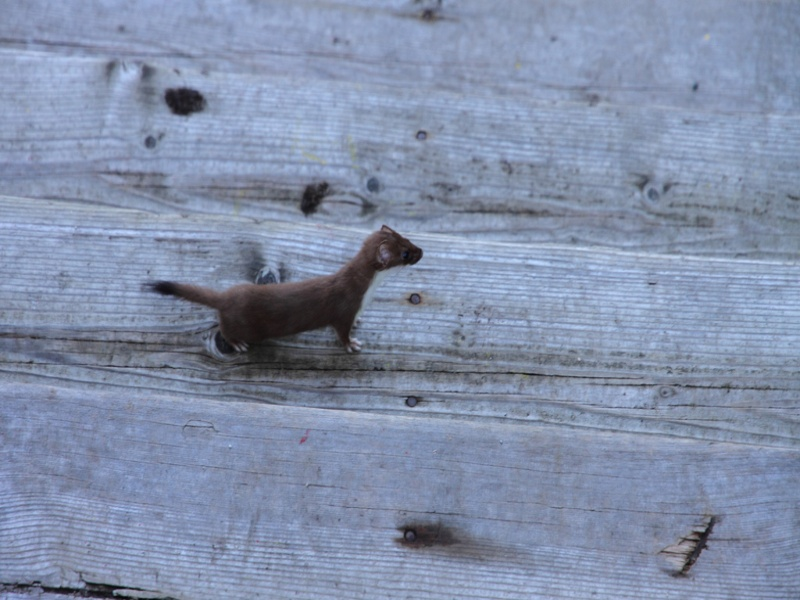minkish: (149, 226, 427, 364)
